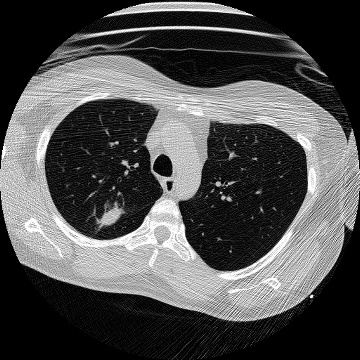PN: (104, 209, 120, 225)
